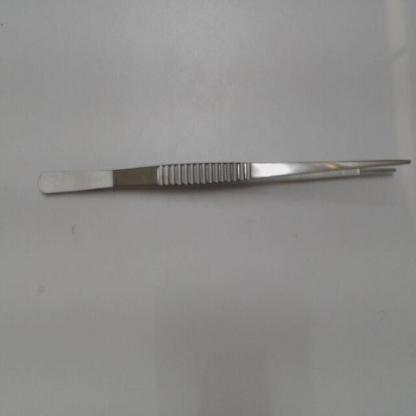DeBakey Dissector: (12, 136, 412, 223)
